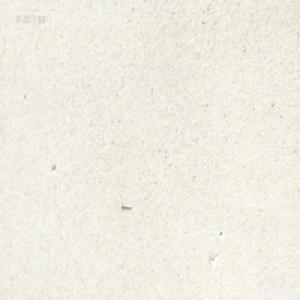Nail: (121, 202, 131, 210)
